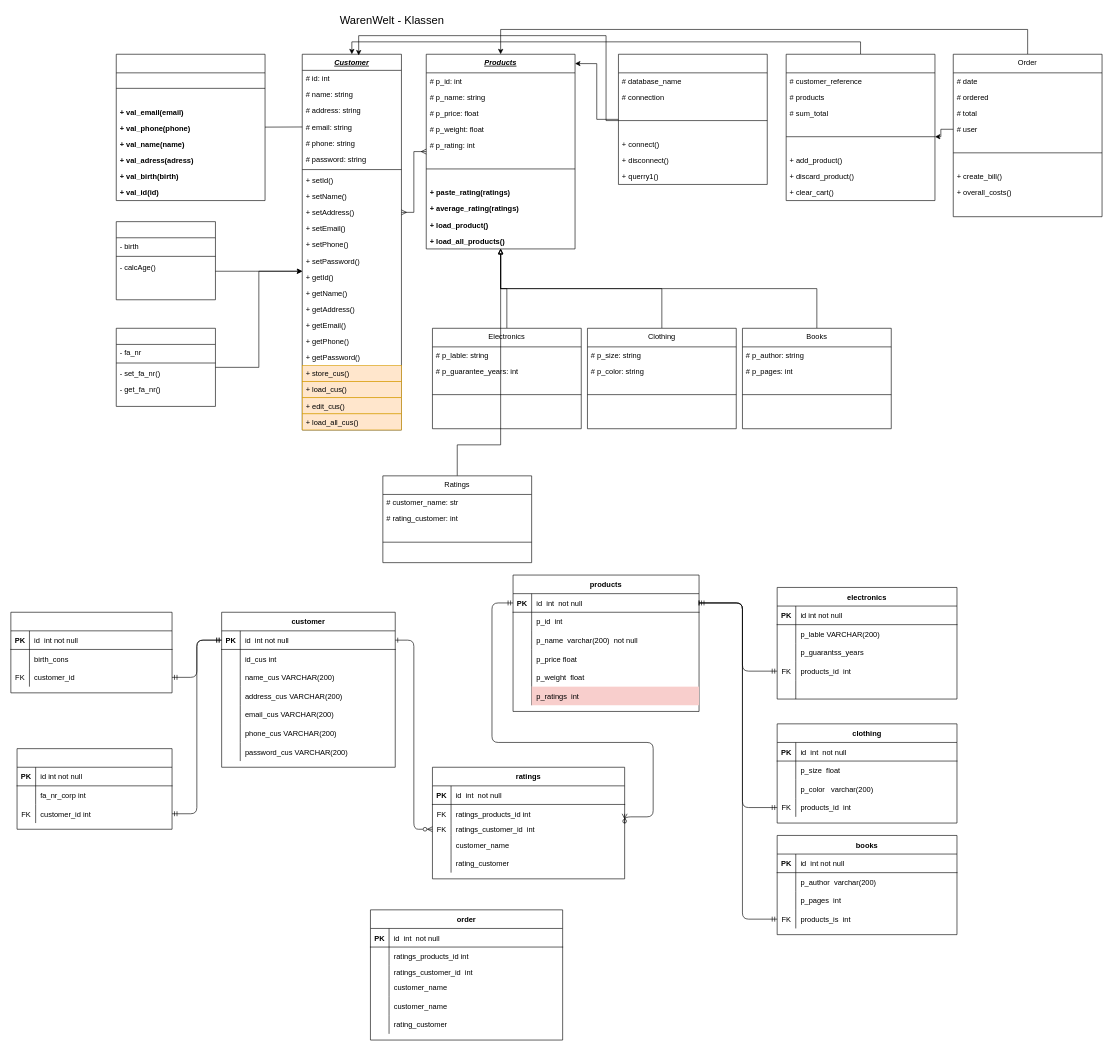
Image size: 1113x1051. Some labels were removed from this diagram. The box of each missing label's shape, as (x1, y1, x2, y2) in pixels:
Consumer: (116, 221, 215, 300)
consumer_customer: (10, 612, 172, 693)
Corporate: (116, 328, 215, 406)
corporate_customer: (16, 748, 172, 829)
Schoppingcart: (786, 54, 935, 201)
Storage: (618, 54, 767, 184)
Validator: (116, 54, 265, 201)
